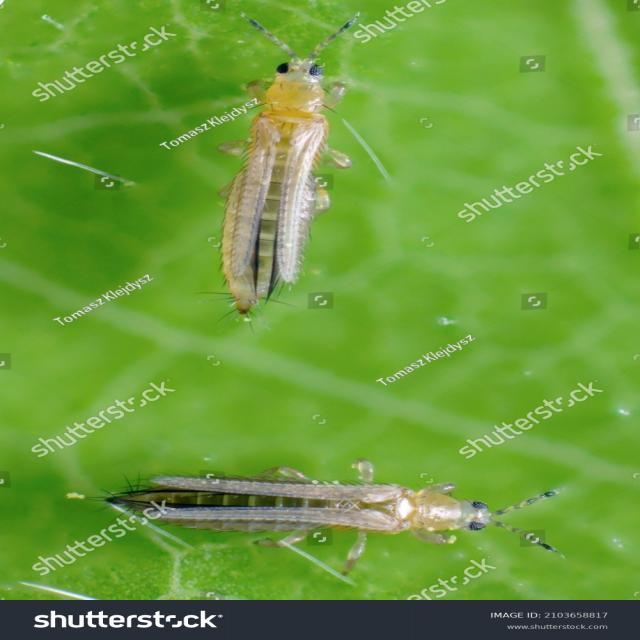Thrip-Adult-: (180, 8, 390, 326), (68, 452, 597, 575)
